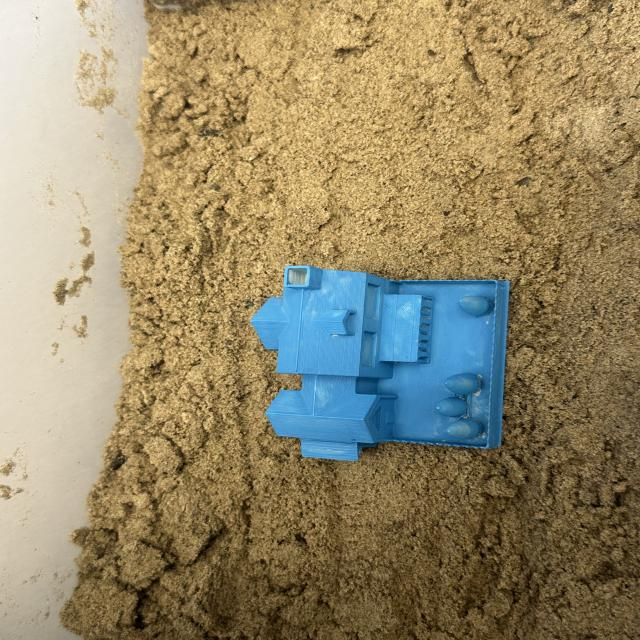house: (249, 265, 514, 464)
